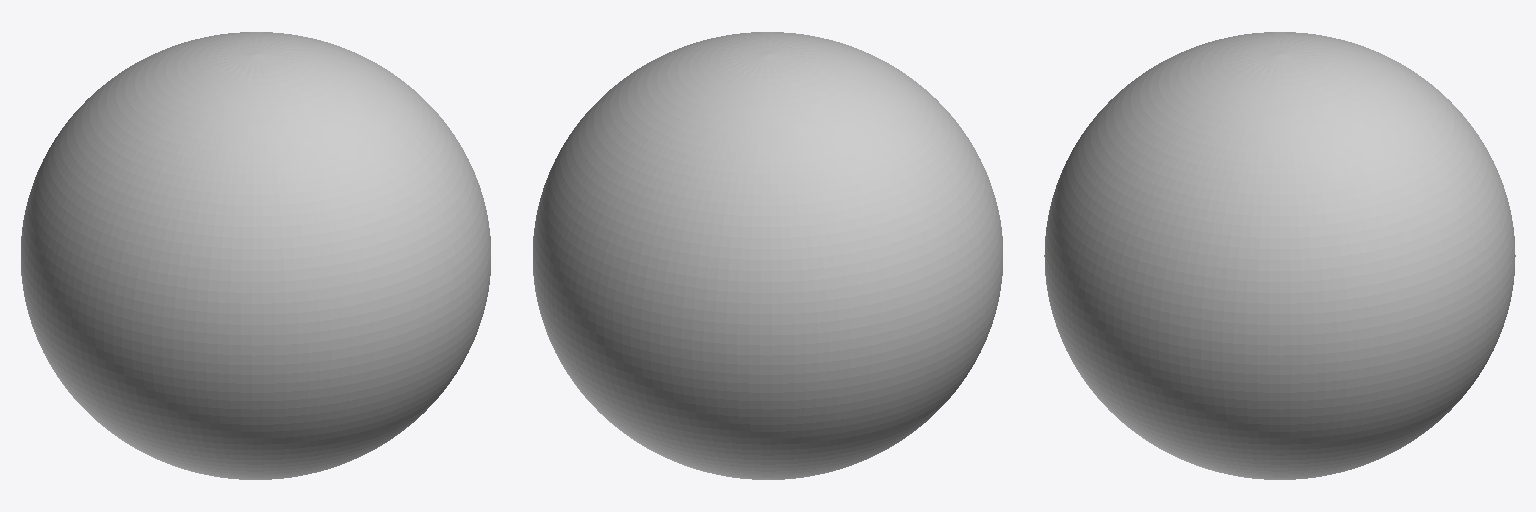
The model's file is earth_good.obj.
3 renders of one model, left to right at view 1: azimuth 30°, elevation 25°; view 2: azimuth 150°, elevation 25°; view 3: azimuth 270°, elevation 25°, orthographic.
Parts seen in each view (by area): view 1: 球体_球体.001; view 2: 球体_球体.001; view 3: 球体_球体.001.
Part boxes in pixels (left/top/right/bottom): 球体_球体.001: left=21, top=32, right=490, bottom=479; 球体_球体.001: left=533, top=32, right=1002, bottom=479; 球体_球体.001: left=1044, top=32, right=1515, bottom=479.
Size of the model in its own units: 1.06 by 0.9976 by 1.06.